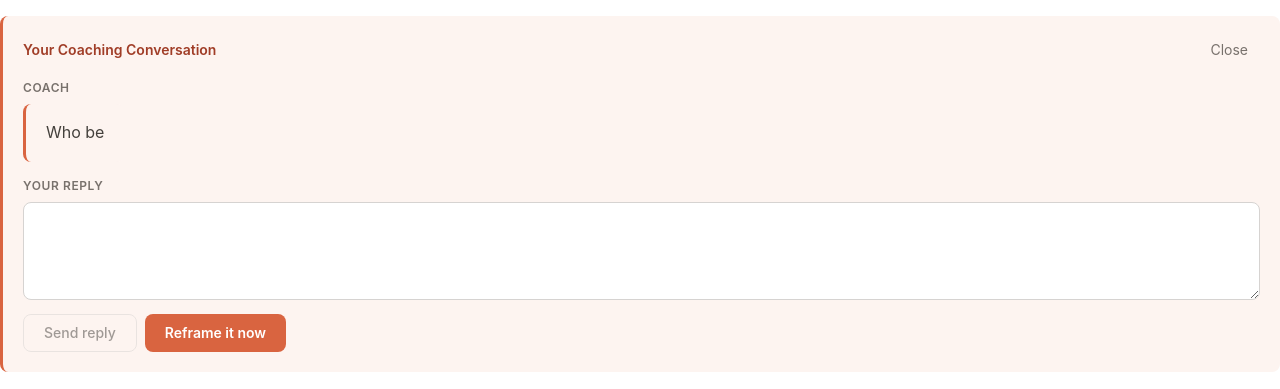
Test: CoachPanel — rate limit › shows the reframe limit message when reframe is rate limited
Click the button "Reframe it now": (215, 333) [145,314,286,352]
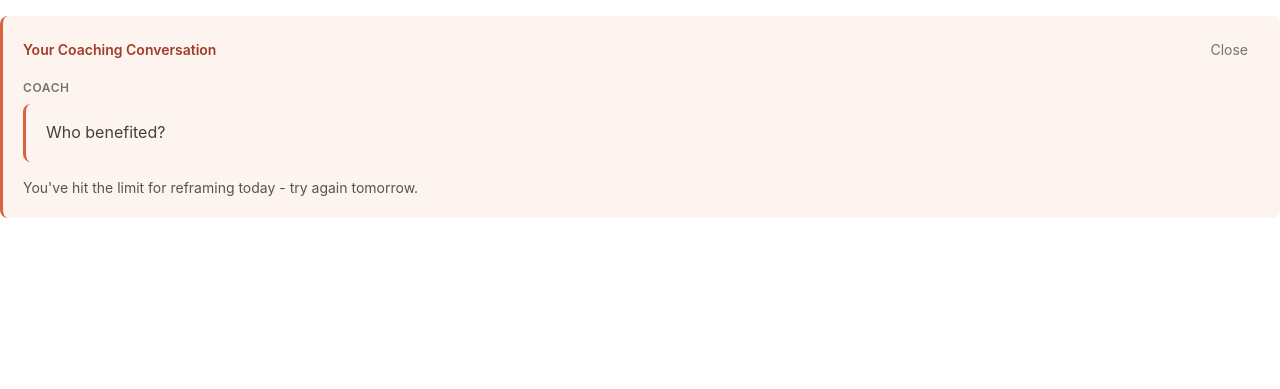
Expected: the text "You've hit the limit for reframing today - try again tomorrow." is shown, [23,179,418,196]
